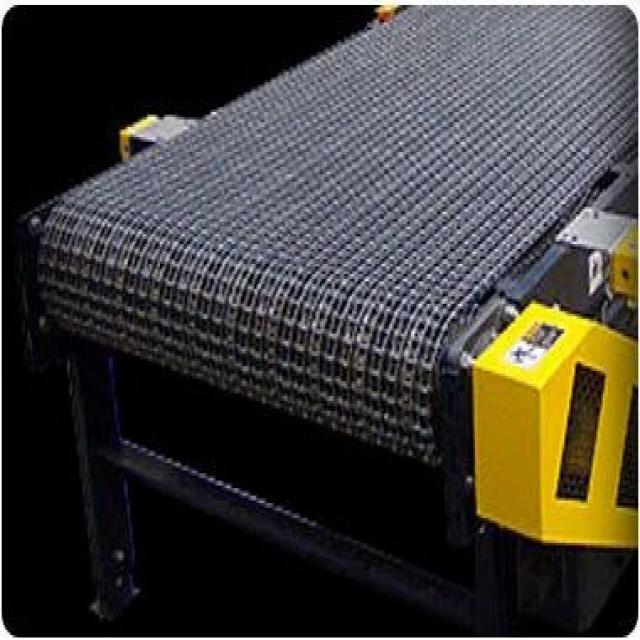conveyor: (30, 2, 640, 520)
